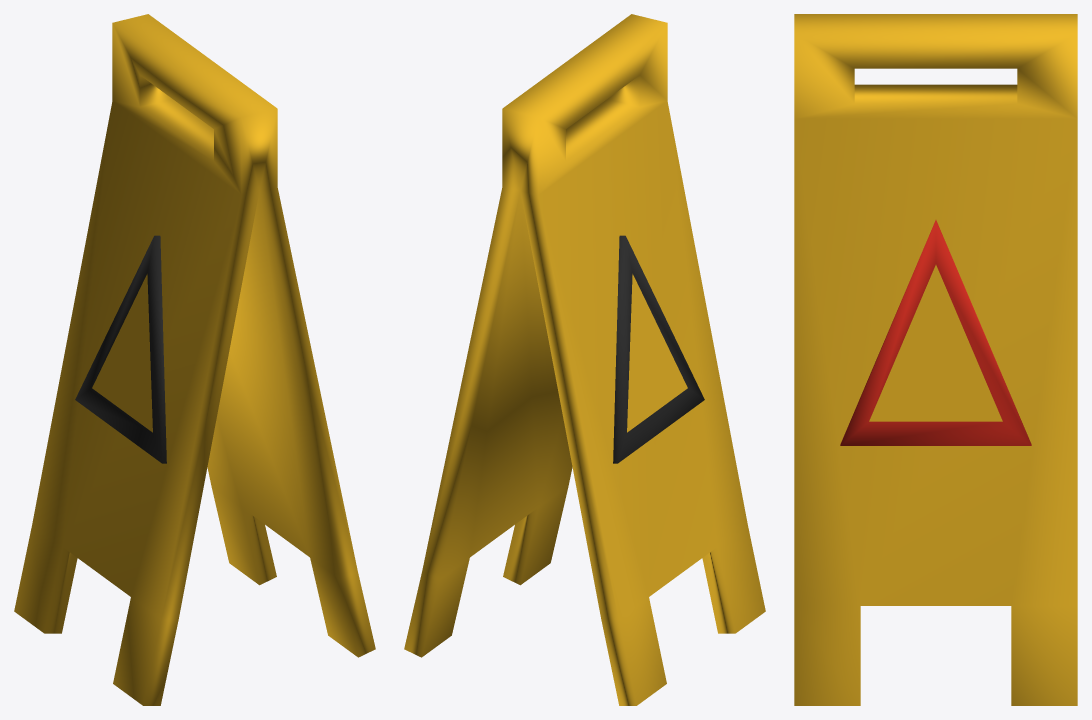
The model's file is caution_wetfloor.glb.
3 renders of one model, left to right at view 1: azimuth 30°, elevation 25°; view 2: azimuth 150°, elevation 25°; view 3: azimuth 270°, elevation 25°, orthographic. The views are drawn at different scales.
Visible parts, largest first — view 1: mesh_cleaningsignal_01; view 2: mesh_cleaningsignal_01; view 3: mesh_cleaningsignal_01.
Boxes of the visible parts, x1,y1,x2,y2 form: mesh_cleaningsignal_01: [14, 14, 375, 705]; mesh_cleaningsignal_01: [404, 14, 765, 705]; mesh_cleaningsignal_01: [794, 14, 1077, 705].
Size of the model in its own units: 0.4074 by 0.952 by 0.3917.
Materials: 1 (1 with a texture image).
